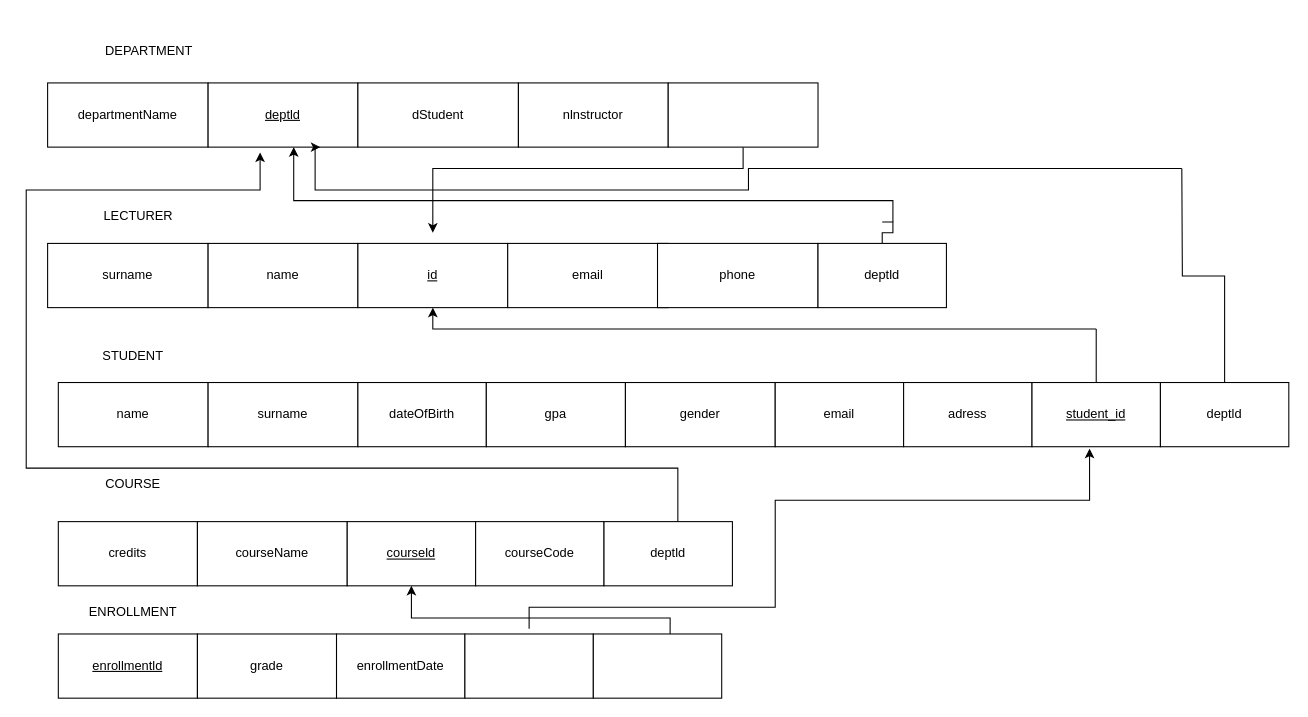
This 1308x717 diagram has some shape labels left out. Each missing label, with the centre of its shape:
crs_id: (657,665)
hod: (742,114)
stud_id: (528,665)
